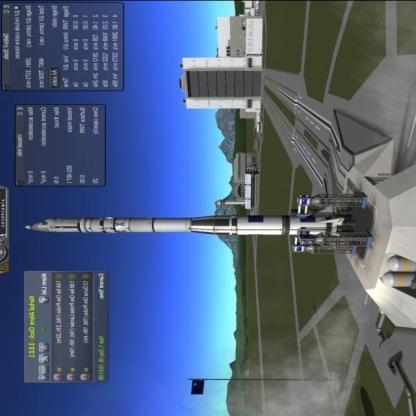MIL_TBM: (19, 209, 355, 241)
